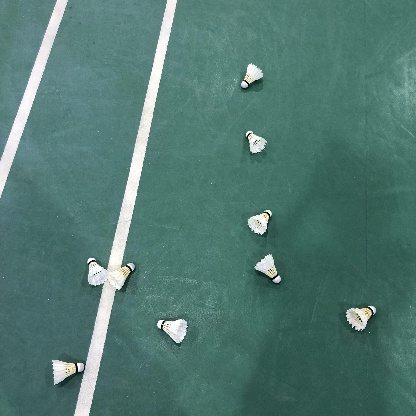ball_single: (52, 360, 84, 385), (106, 263, 135, 290), (254, 254, 281, 283), (346, 305, 376, 331), (157, 319, 188, 343), (247, 210, 272, 235), (87, 258, 109, 286), (241, 64, 263, 88), (246, 131, 267, 153)
